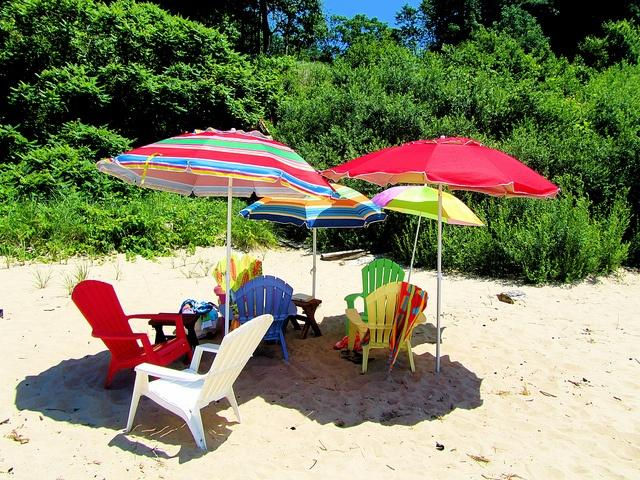Kursi: (124, 313, 272, 450), (71, 279, 192, 385), (345, 281, 427, 373)
